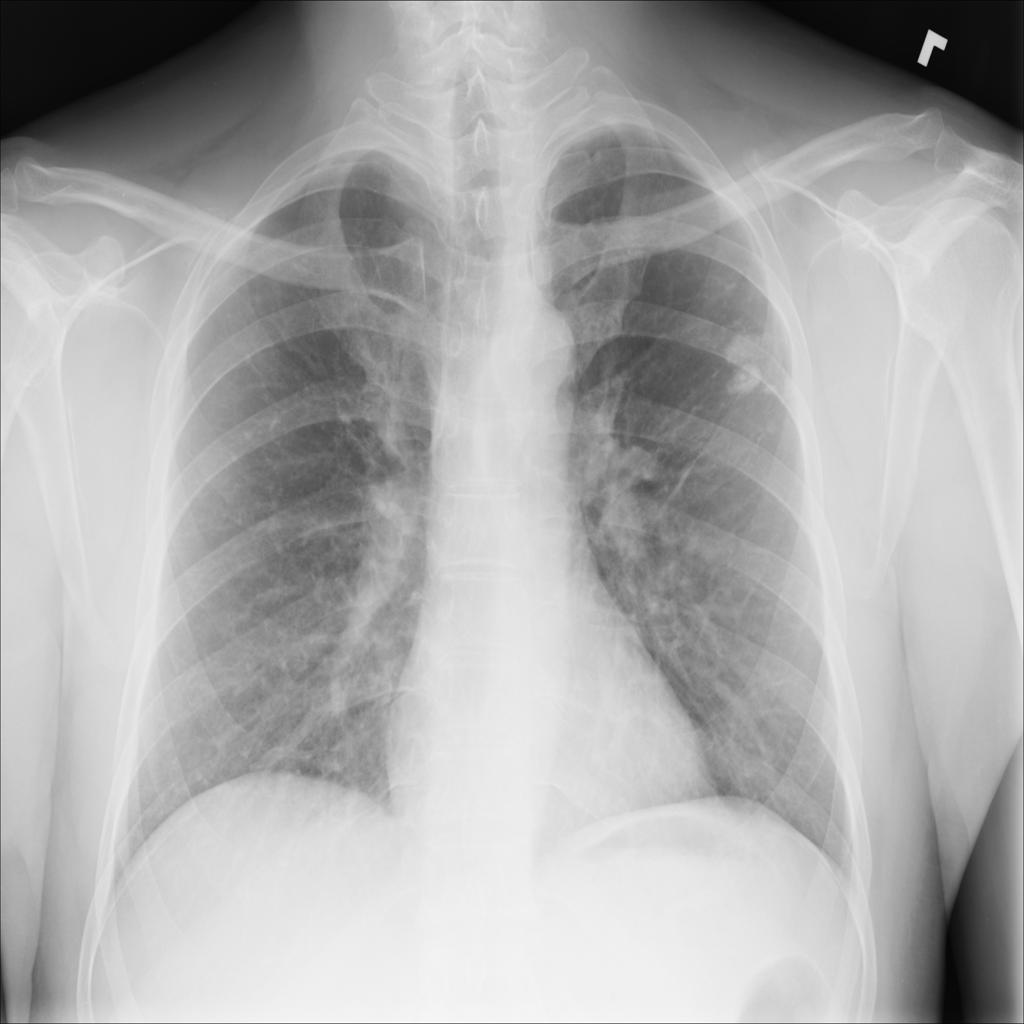nodule: (707, 320, 785, 396)
